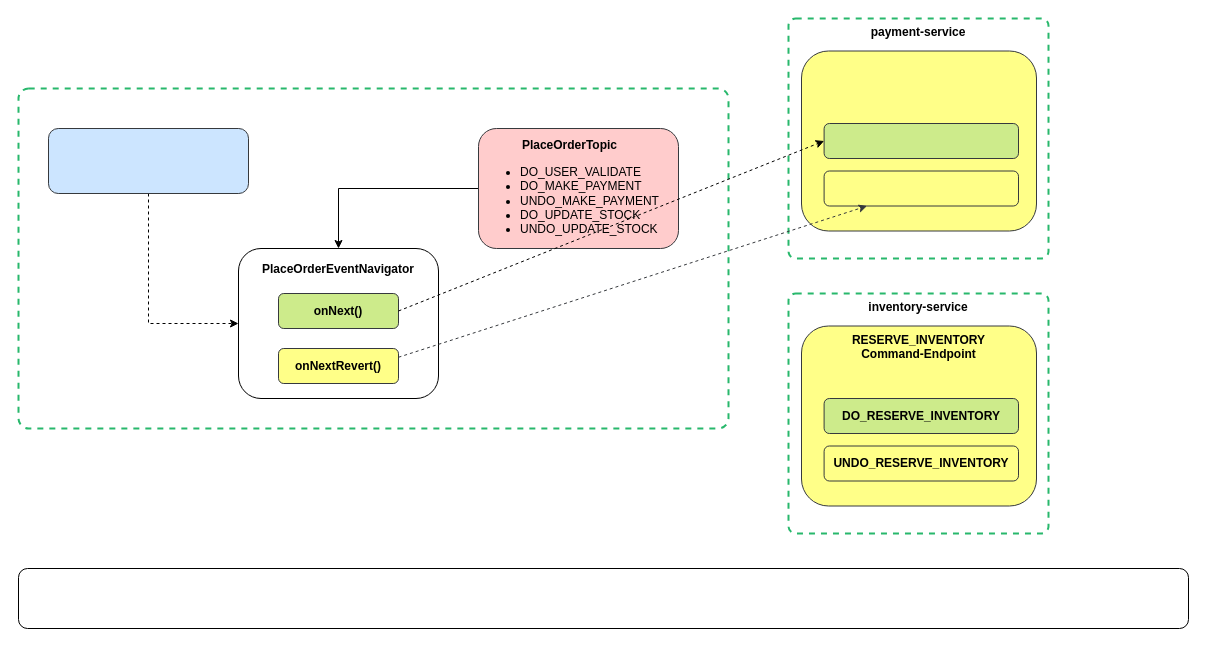
Image size: 1206x646. Some labels were removed from this diagram. The shapes that lost their labels are listed below. From the top down, each one's box as (x1, y1, x2, y2) in pixels, then its label:
(800, 50, 1036, 231): MAKE_PAYMENT Command-Endpoint
(823, 122, 1018, 158): DO_MAKE_PAYMENT
(48, 128, 248, 194): OrderDomainEntity
(823, 170, 1018, 206): UNDO_MAKE_PAYMENT
(17, 87, 729, 429): order-service(Orchestrator service)
